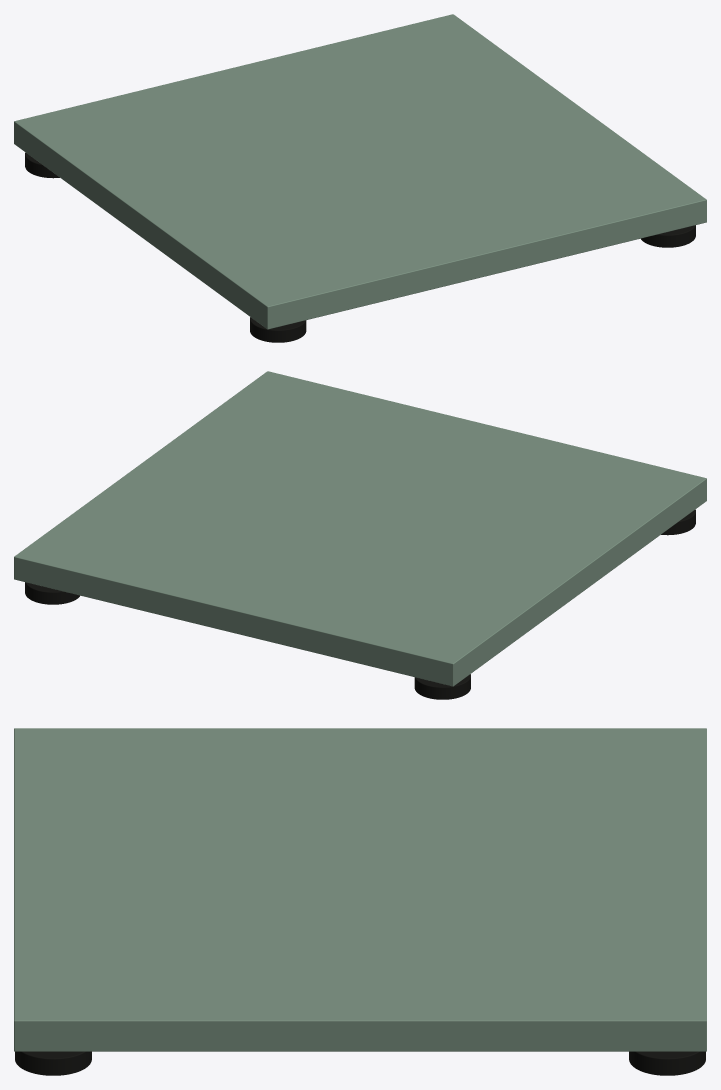
The model's file is PLT_1X1_VA.glb.
3 renders of one model, top to bottom at view 1: azimuth 30°, elevation 25°; view 2: azimuth 150°, elevation 25°; view 3: azimuth 270°, elevation 25°, orthographic. The views are drawn at different scales.
Bounding box in the file's own units: 360 × 32 × 360.
